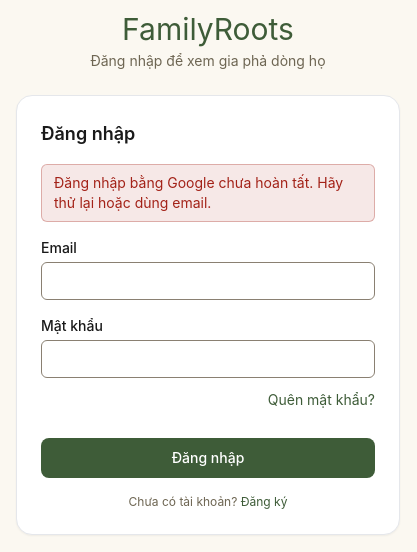
Test: a Google return that failed › gives way to the next attempt’s own outcome
Check: the text "Đăng nhập bằng Google chưa hoàn tất. Hãy thử lại hoặc dùng email." is shown, box [41,164,375,222]
Type "lan@example.com" into the field labelled "Email". click: (208, 281)
box: [41,262,375,300]
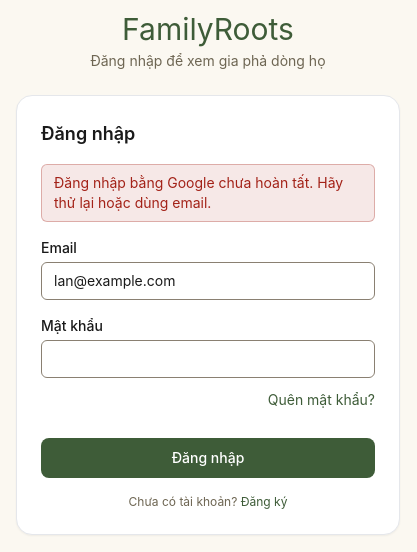
Type "correct horse battery" into the password field labelled "Mật khẩu". click: (208, 359)
box: [41,340,375,378]
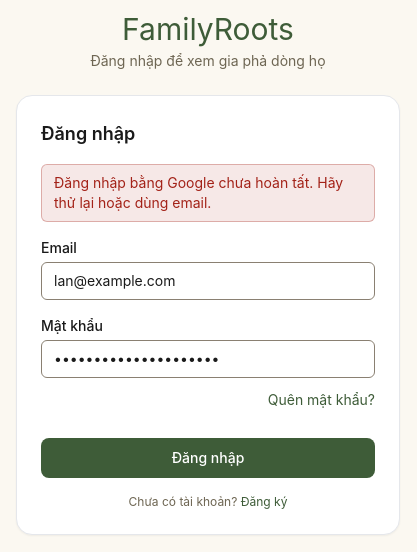
Click the button "Đăng nhập". click: (208, 458)
box: [41,438,375,478]
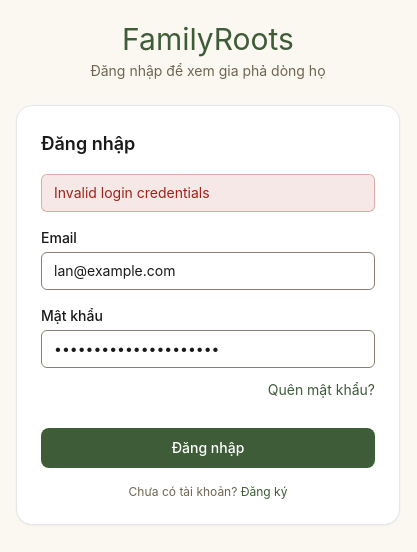
Check: the text "Invalid login credentials" is shown, box [41,174,375,212]
Check: the text "Đăng nhập bằng Google chưa hoàn tất. Hãy thử lại hoặc dùng email." is gone
